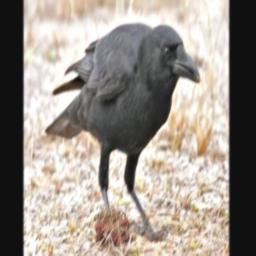Crow: (44, 22, 200, 241)
